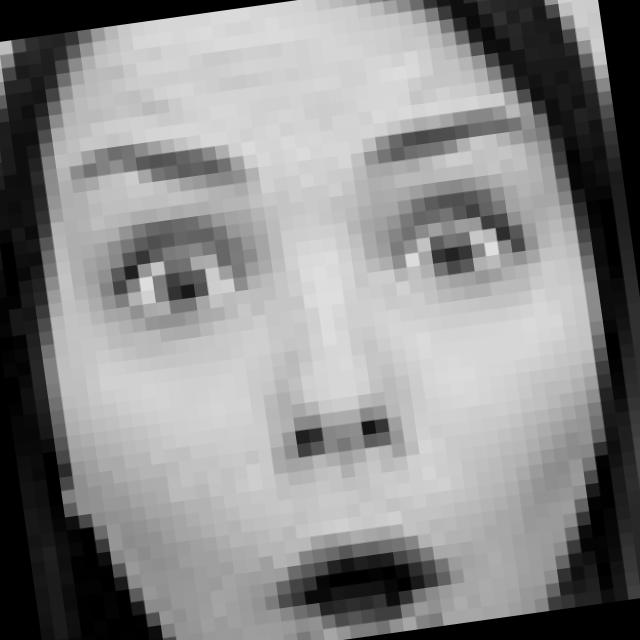surprise: (50, 71, 616, 640)
